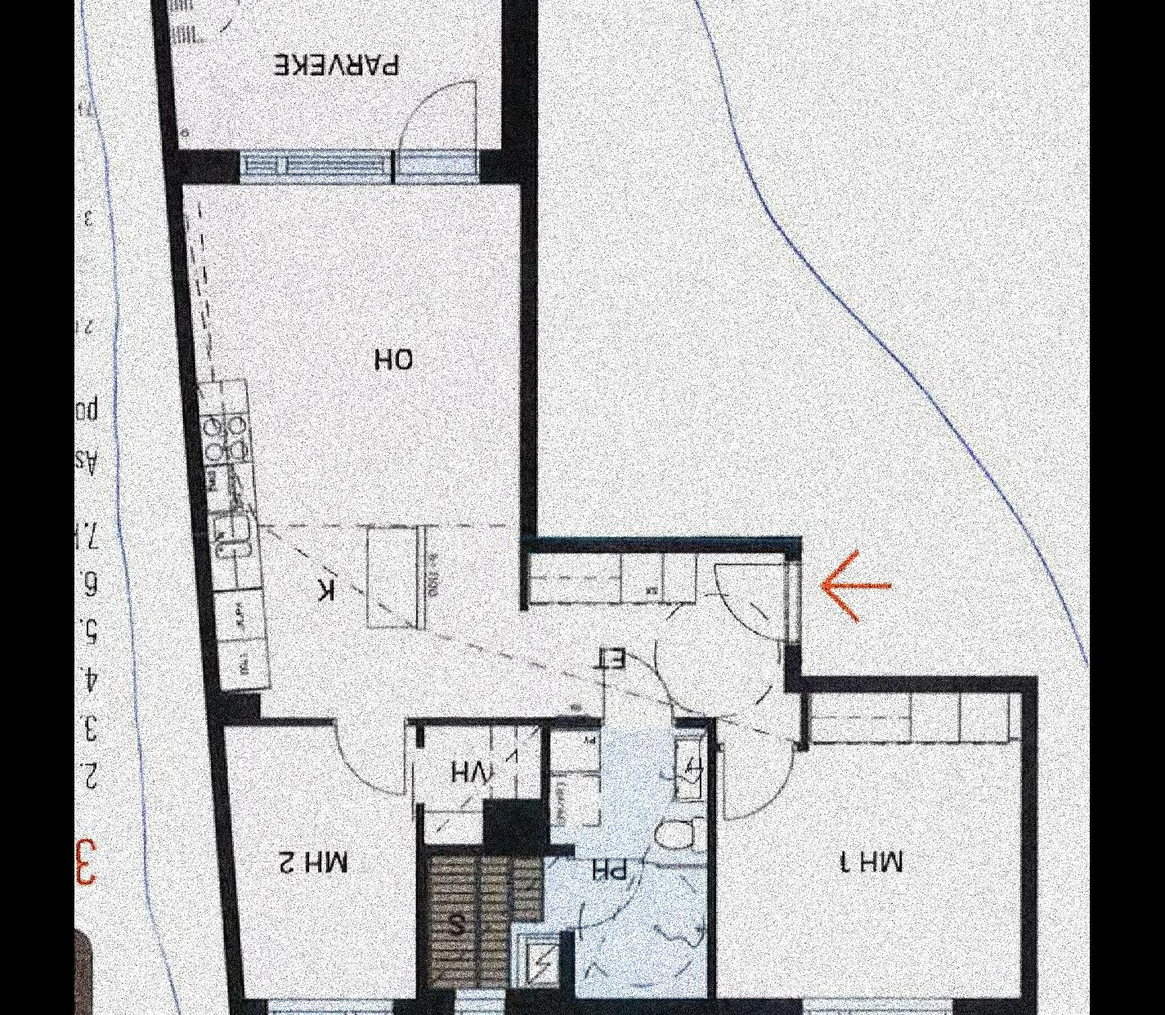door: (390, 71, 488, 192), (703, 554, 805, 644), (721, 717, 802, 821), (329, 718, 412, 796), (605, 648, 669, 725)
window: (237, 146, 400, 184), (800, 993, 960, 1015), (267, 1006, 398, 1015), (451, 1007, 502, 1015)
zone: (184, 174, 782, 712), (717, 684, 1032, 1004), (237, 702, 423, 1003), (175, 0, 504, 148), (532, 725, 709, 994), (424, 855, 562, 984), (426, 717, 550, 847)
